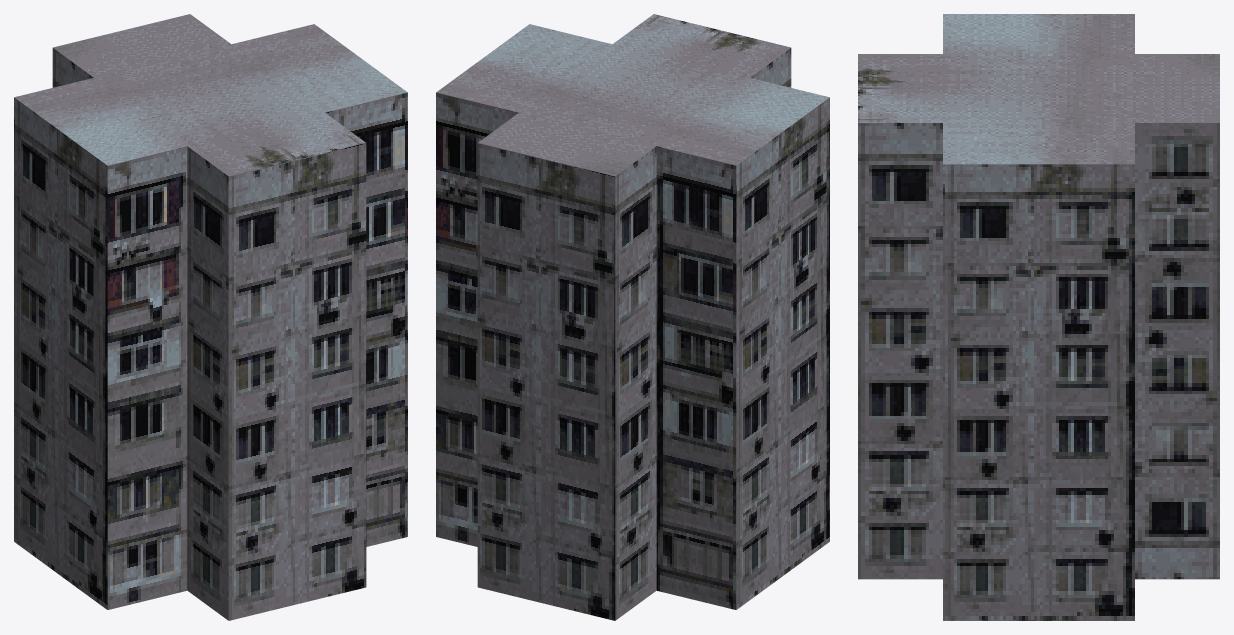
The model's file is psx_soviet_apartmen.glb.
3 renders of one model, left to right at view 1: azimuth 30°, elevation 25°; view 2: azimuth 150°, elevation 25°; view 3: azimuth 270°, elevation 25°, orthographic. The views are drawn at different scales.
Parts seen in each view (by area): view 1: pCube10; view 2: pCube10; view 3: pCube10.
Boxes of the visible parts, x1,y1,x2,y2 form: pCube10: [14, 14, 407, 620]; pCube10: [436, 14, 829, 620]; pCube10: [858, 14, 1219, 620].
Bounding box in the file's own units: 0.842 × 1.19 × 0.8556.
Materials: 2 (2 with a texture image).
